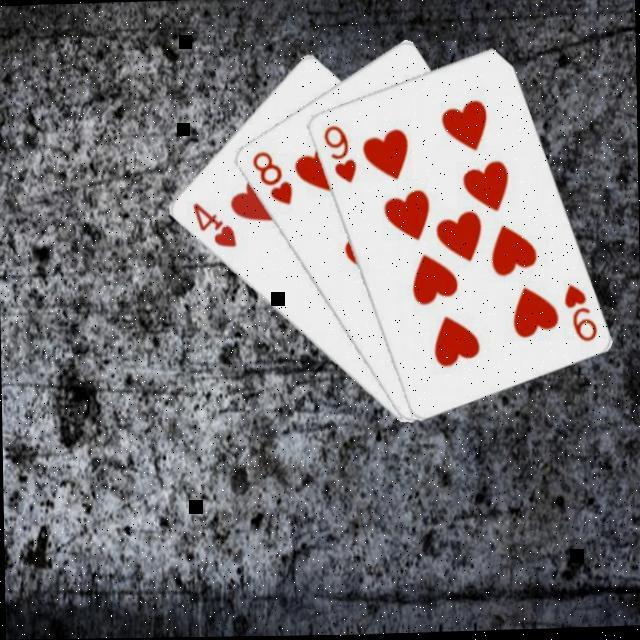4H: (190, 200, 241, 253)
8H: (250, 149, 296, 212)
9H: (560, 282, 602, 348), (320, 122, 361, 188)
